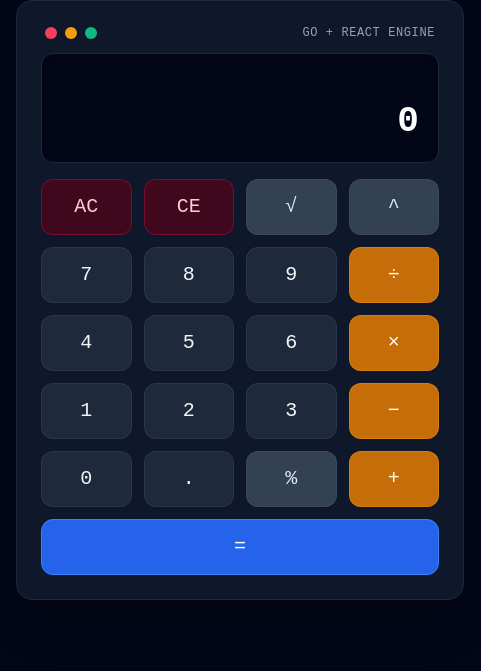
Test: Calculator Component Integration & User Interactions › displaysFriendlyDivisionByZeroMessage when backend returns division by zero error
Step 1. Click the button "9" → click(291, 275), box [246,247,336,303]
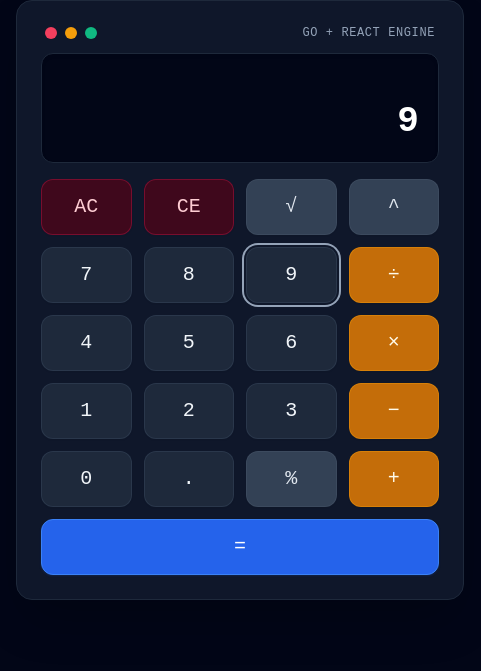
Step 2. Click the button named "Divide" → click(394, 275), box [348,247,439,303]
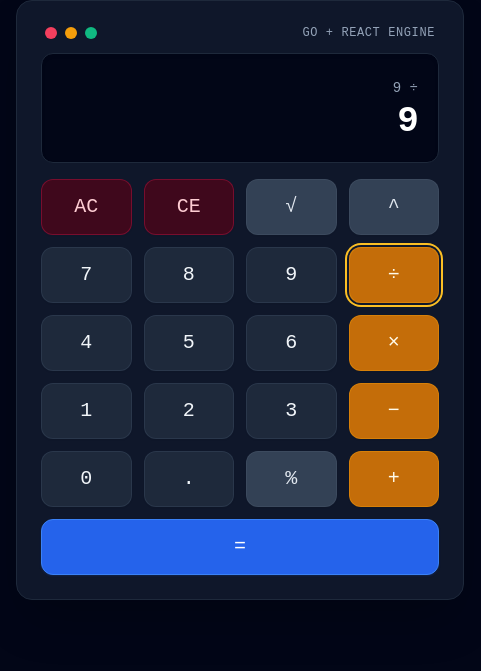
Step 3. Click the button "0" → click(86, 479), box [41,451,132,507]
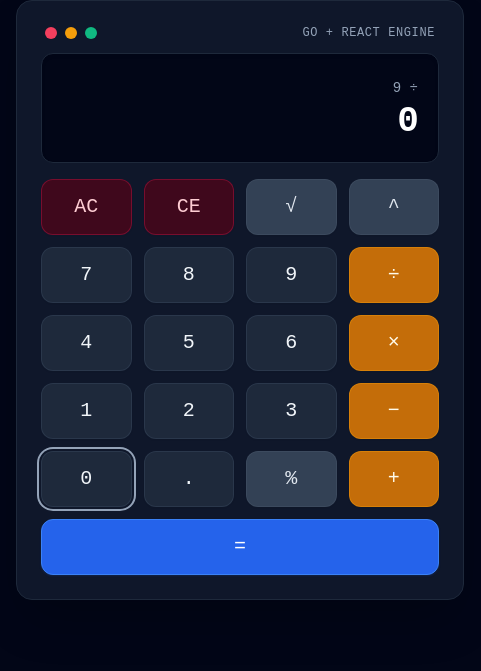
Step 4. Click the button named "Calculate" → click(240, 547), box [41,519,439,575]
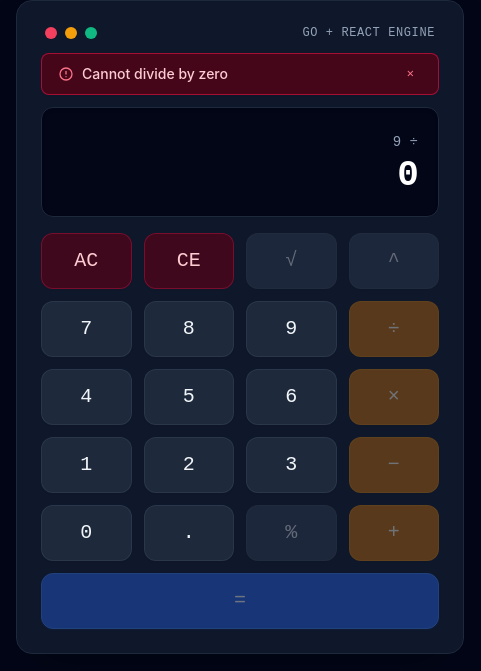
Result: the text with test id "calculator-display" reads "0" at [397,155,418,196]
Result: the message shows "Cannot divide by zero" at [82,65,228,82]
